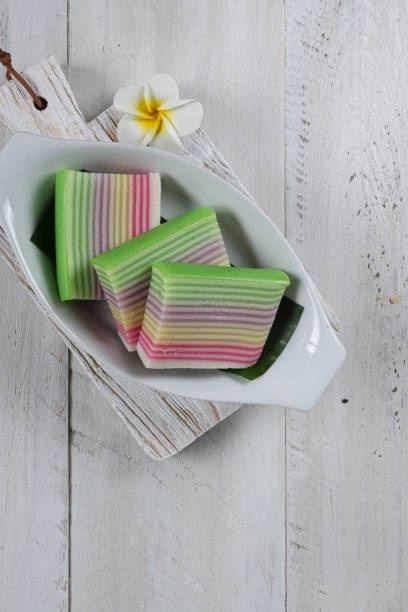kue_lapis_pelangi: (139, 260, 290, 374), (48, 164, 160, 309)
